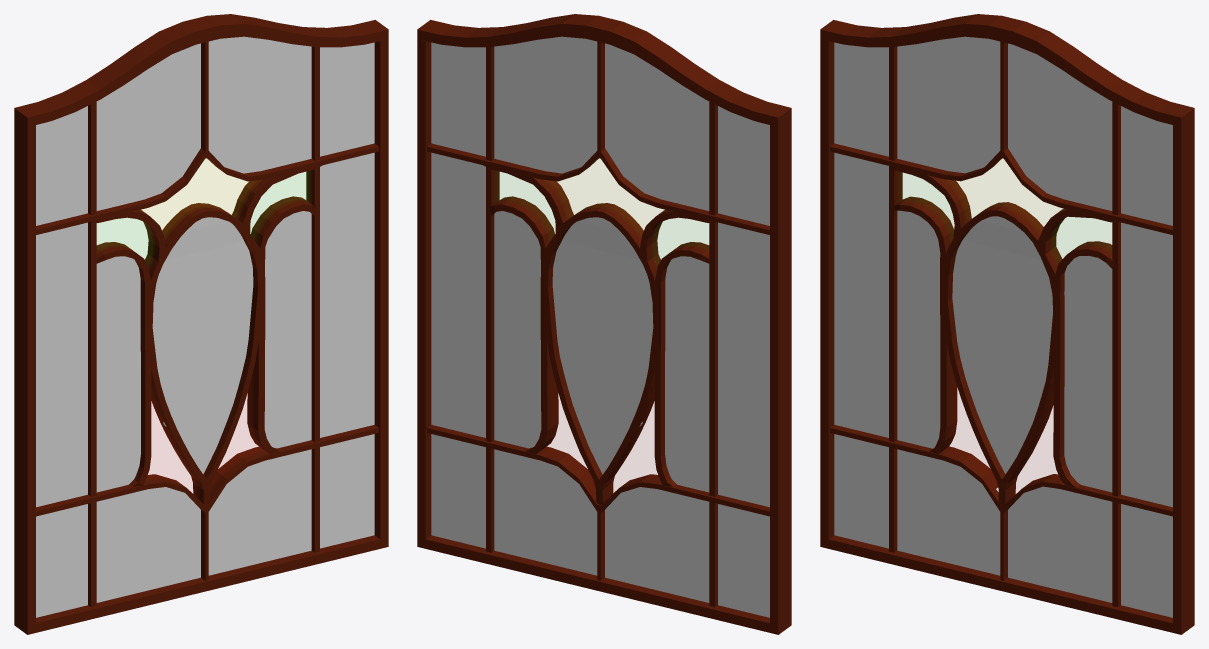
The model's file is mado.fbx.
3 views of the same model, side by side, from view 1: azimuth 30°, elevation 25°; view 2: azimuth 150°, elevation 25°; view 3: azimuth 330°, elevation 25° (orthographic).
Visible parts, largest first — view 1: window, frame4, frame2, frame3, frame5, frame1; view 2: window, frame4, frame2, frame3, frame5, frame1; view 3: window, frame4, frame2, frame3, frame5, frame1.
Part boxes in pixels (x1,y1,x2,y2): window: (36, 36, 374, 617); frame4: (36, 41, 378, 580); frame2: (14, 39, 388, 625); frame3: (14, 14, 388, 127); frame5: (88, 46, 319, 607); frame1: (14, 535, 388, 634); window: (431, 36, 769, 617); frame4: (427, 41, 769, 580); frame2: (417, 39, 791, 625); frame3: (417, 14, 791, 127); frame5: (486, 46, 717, 607); frame1: (417, 535, 791, 634); window: (834, 36, 1172, 617); frame4: (830, 41, 1172, 580); frame2: (820, 39, 1194, 625); frame3: (820, 14, 1194, 127); frame5: (889, 46, 1120, 607); frame1: (820, 535, 1194, 634).
Size of the model in its own units: 714 by 1062 by 45.6.
